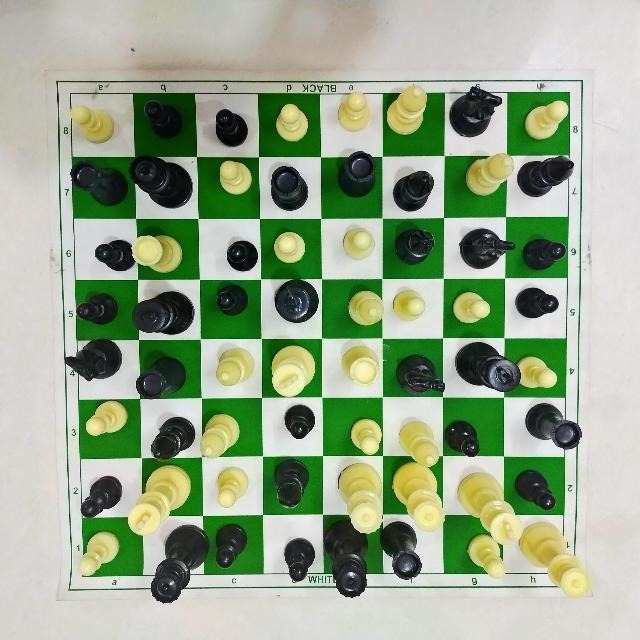black-bishop: (511, 150, 577, 201), (392, 162, 435, 219), (271, 458, 313, 516), (147, 412, 194, 461), (393, 221, 437, 268)
black-king: (452, 336, 522, 400), (133, 281, 199, 334), (271, 278, 323, 328)
black-knight: (445, 81, 505, 143), (460, 220, 516, 278), (391, 351, 451, 403), (60, 332, 124, 379)
black-pawn: (138, 93, 194, 144), (518, 229, 574, 279), (75, 473, 127, 520), (509, 282, 568, 321), (279, 534, 321, 588), (67, 287, 126, 323), (213, 521, 250, 575), (518, 467, 560, 513), (91, 235, 134, 279), (210, 102, 249, 149), (443, 411, 482, 456), (213, 279, 255, 319), (224, 233, 262, 277), (285, 402, 326, 442)
black-queen: (142, 520, 212, 607), (323, 519, 373, 606), (127, 153, 197, 213)
black-rook: (520, 399, 585, 457), (68, 156, 132, 212), (130, 345, 188, 403), (334, 148, 387, 202), (380, 520, 422, 584), (265, 162, 317, 209)
white-bishop: (379, 75, 435, 140), (461, 147, 523, 199), (338, 284, 389, 332), (198, 413, 248, 461), (396, 416, 443, 466), (214, 341, 257, 391)
white-king: (125, 458, 193, 538), (456, 467, 524, 547), (264, 336, 319, 397)
white-pawn: (61, 522, 125, 583), (515, 97, 571, 147), (465, 529, 508, 589), (66, 96, 116, 146), (333, 78, 372, 137), (210, 460, 253, 513), (518, 348, 566, 394), (452, 288, 495, 338), (85, 395, 133, 439), (336, 222, 383, 266), (272, 219, 314, 268), (347, 412, 390, 458), (387, 282, 433, 324), (277, 99, 311, 149), (214, 158, 256, 196)
white-queen: (520, 519, 593, 601), (395, 458, 449, 533), (333, 460, 386, 533)
white-rook: (130, 228, 186, 277), (337, 347, 383, 388)
